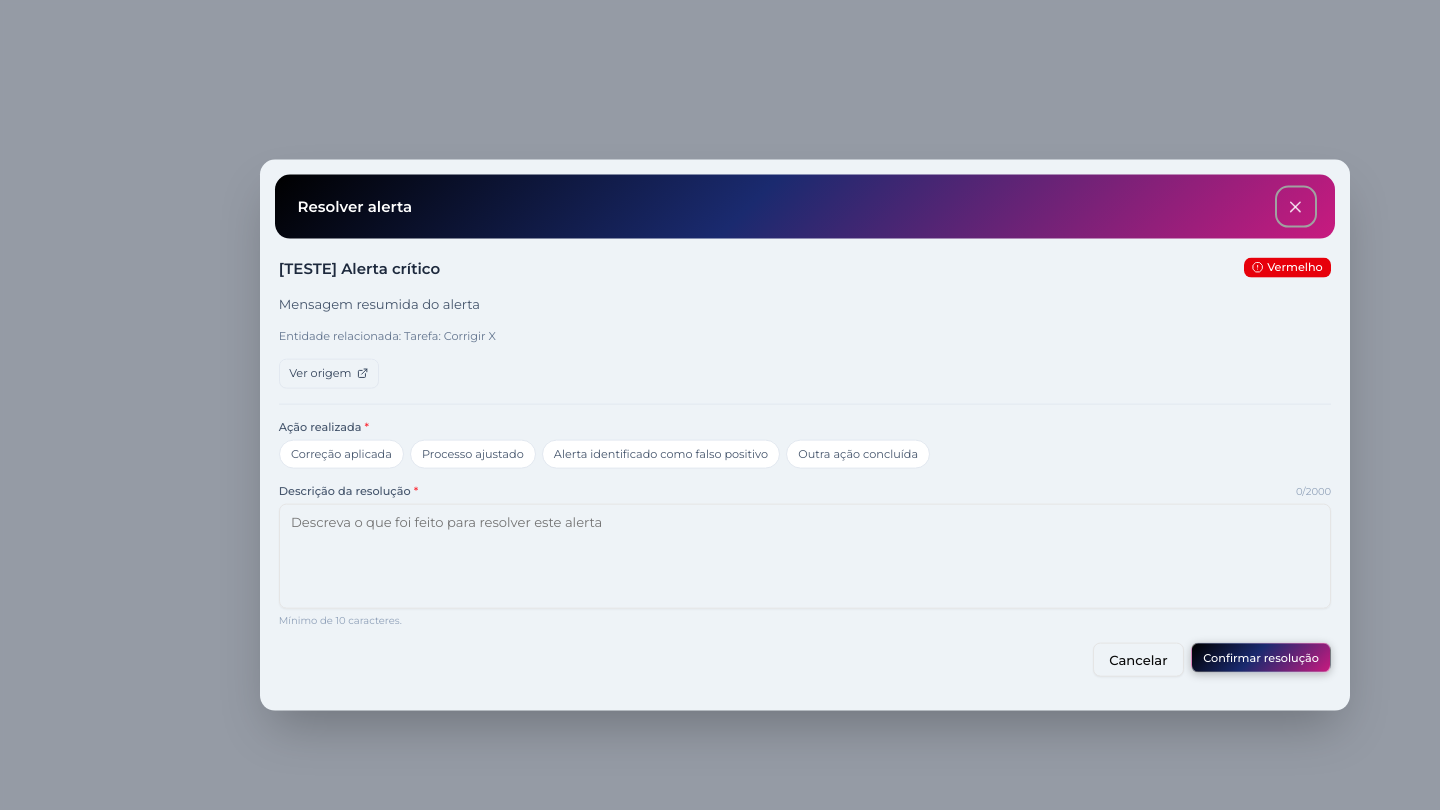
it: AlertResolveModal › 5. ação é obrigatória — enviar vazio mostra erro e não chama a API
In the text box with placeholder "Descreva o que foi feito para resolver este alerta": (805, 556) [279,504,1331,609], type "Descrição de teste com mais de dez caracteres"
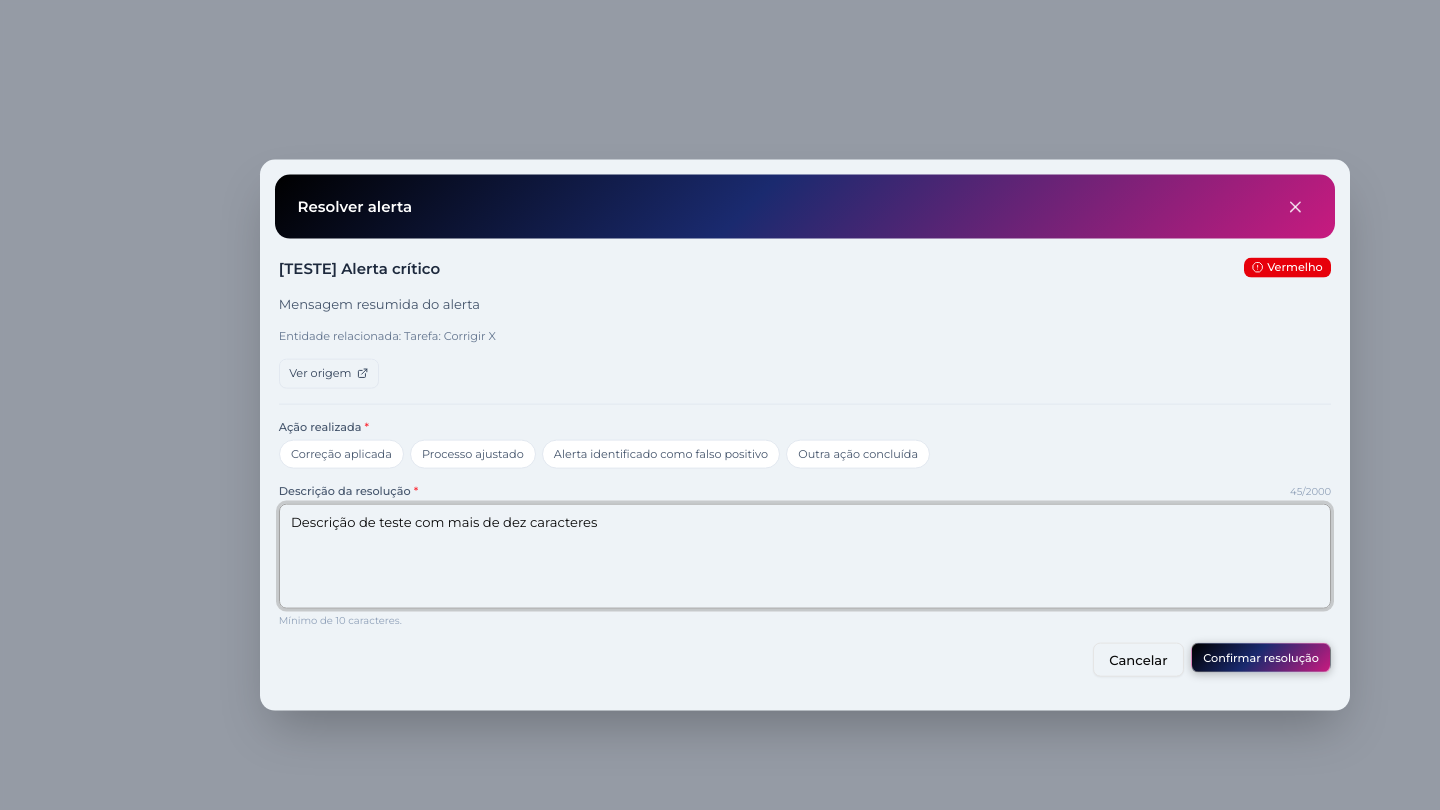
Click the button "Confirmar resolução": (1261, 658) [1191,643,1331,673]
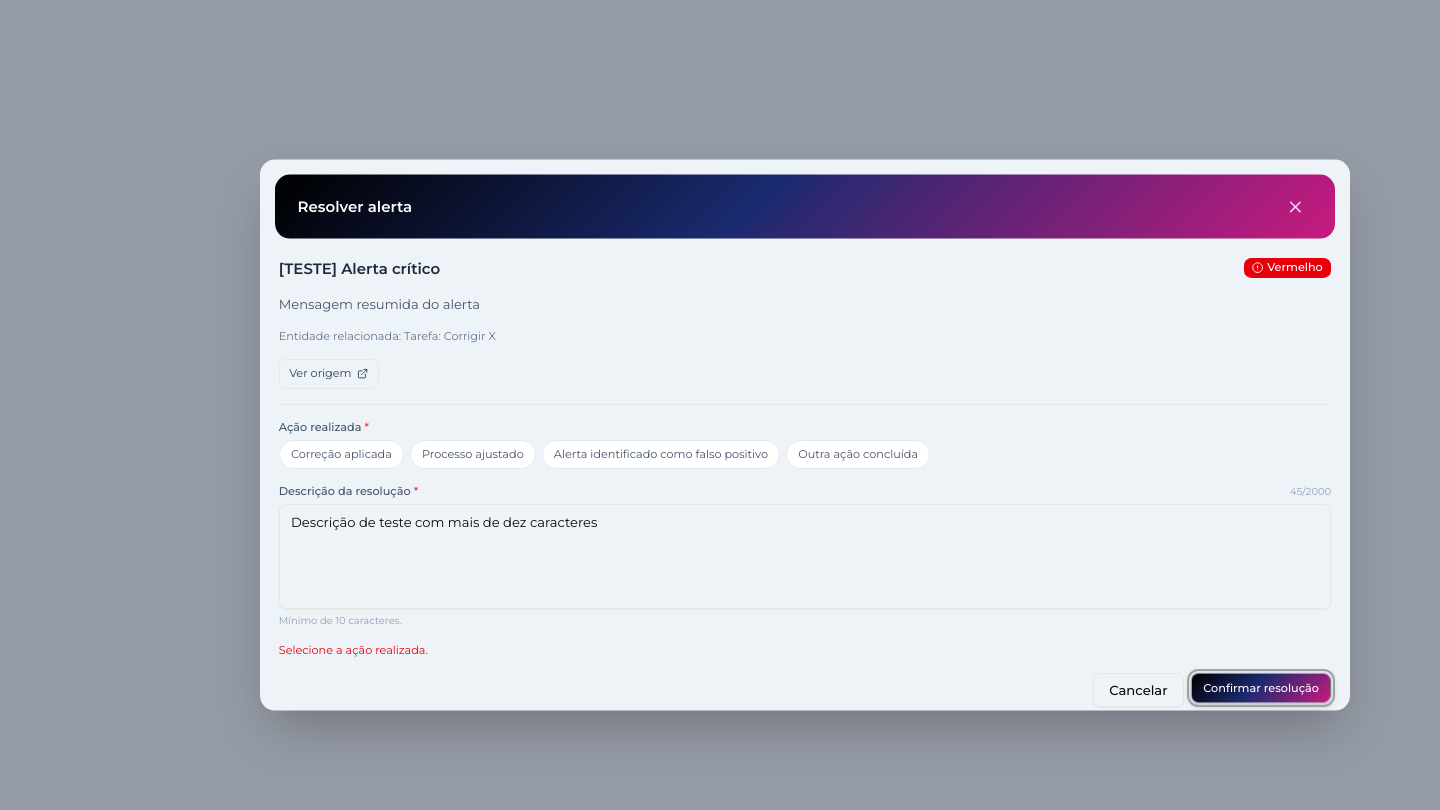
Result: the text "Selecione a ação realizada." is shown at [279,643,428,657]
